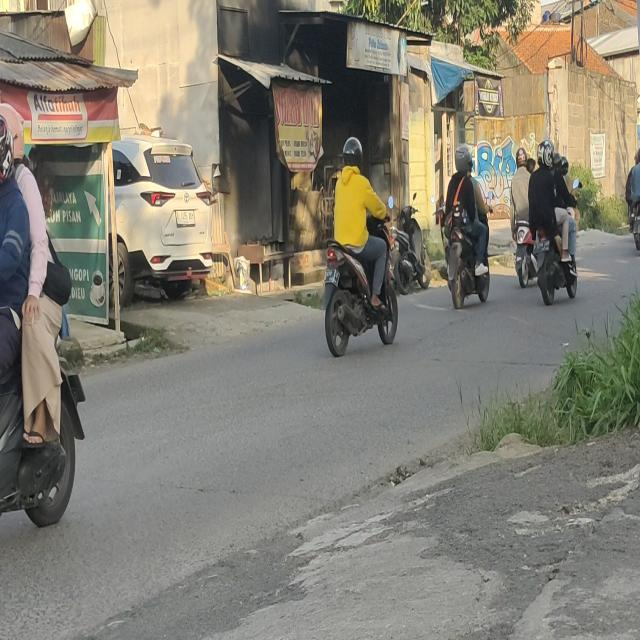helmet: (0, 101, 27, 159), (0, 118, 15, 180), (344, 135, 366, 171), (538, 142, 554, 168), (456, 147, 469, 172), (517, 148, 527, 168), (554, 153, 562, 173), (562, 157, 568, 175)
no-helmet: (528, 158, 536, 174)
